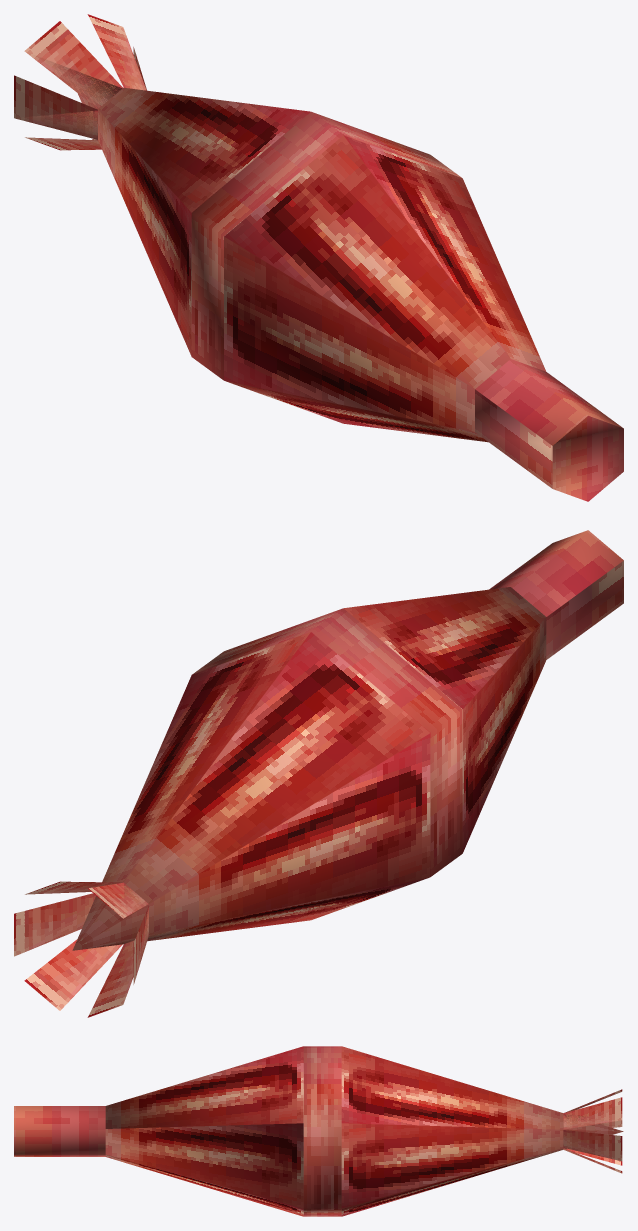
Rendered from rpg.glb.
3 views of the same model, one above another, from view 1: azimuth 30°, elevation 25°; view 2: azimuth 150°, elevation 25°; view 3: azimuth 270°, elevation 25° (orthographic). The views are drawn at different scales.
Parts seen in each view (by area): view 1: _rpg; view 2: _rpg; view 3: _rpg.
Part boxes in pixels (x1,y1,x2,y2): _rpg: (14, 14, 623, 501); _rpg: (14, 530, 623, 1017); _rpg: (14, 1046, 623, 1216).
Bounding box in the file's own units: 0.1732 × 0.2 × 0.6484.
1 material, 1 textured.
